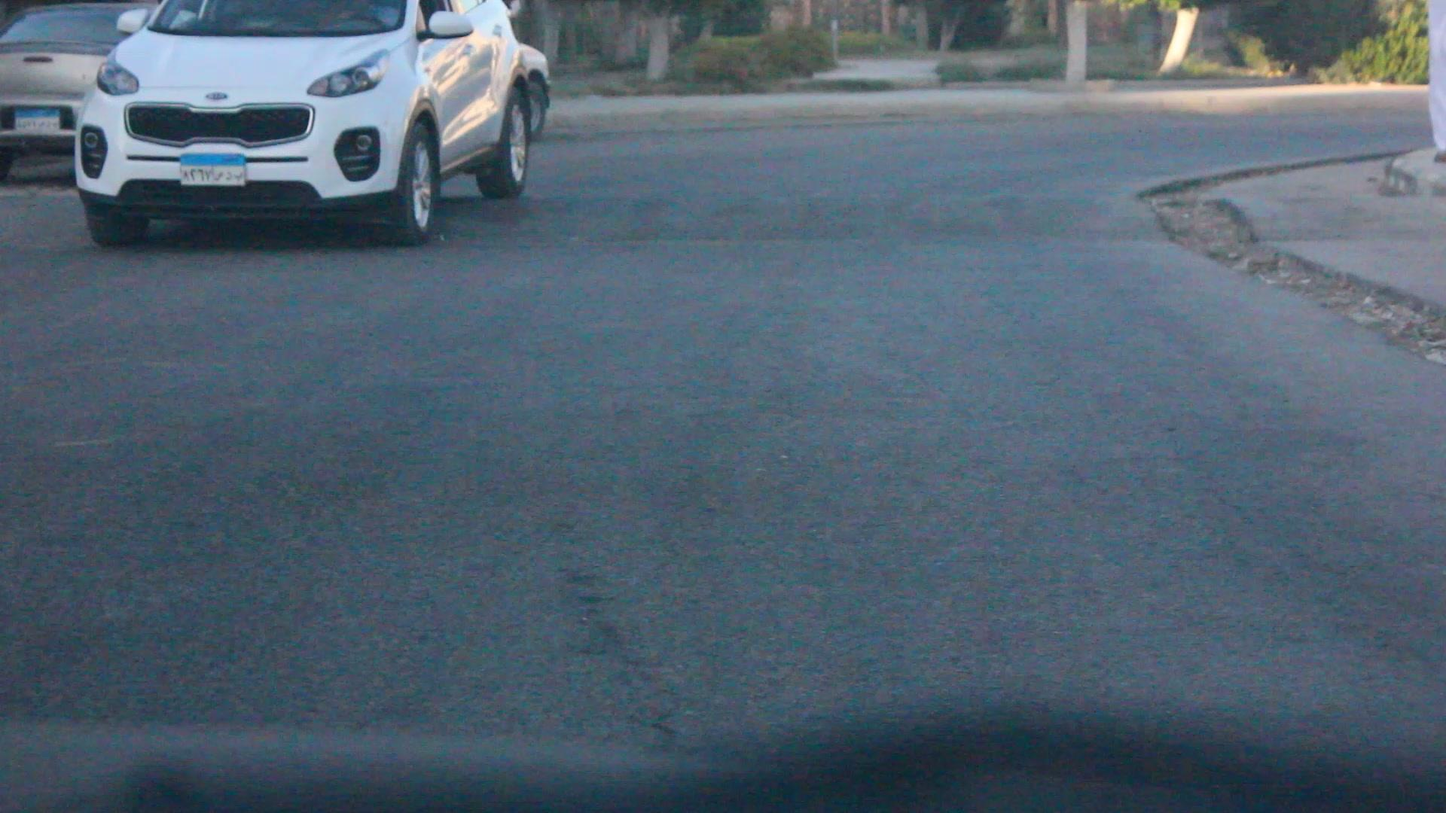Bump: (469, 192, 1179, 252)
